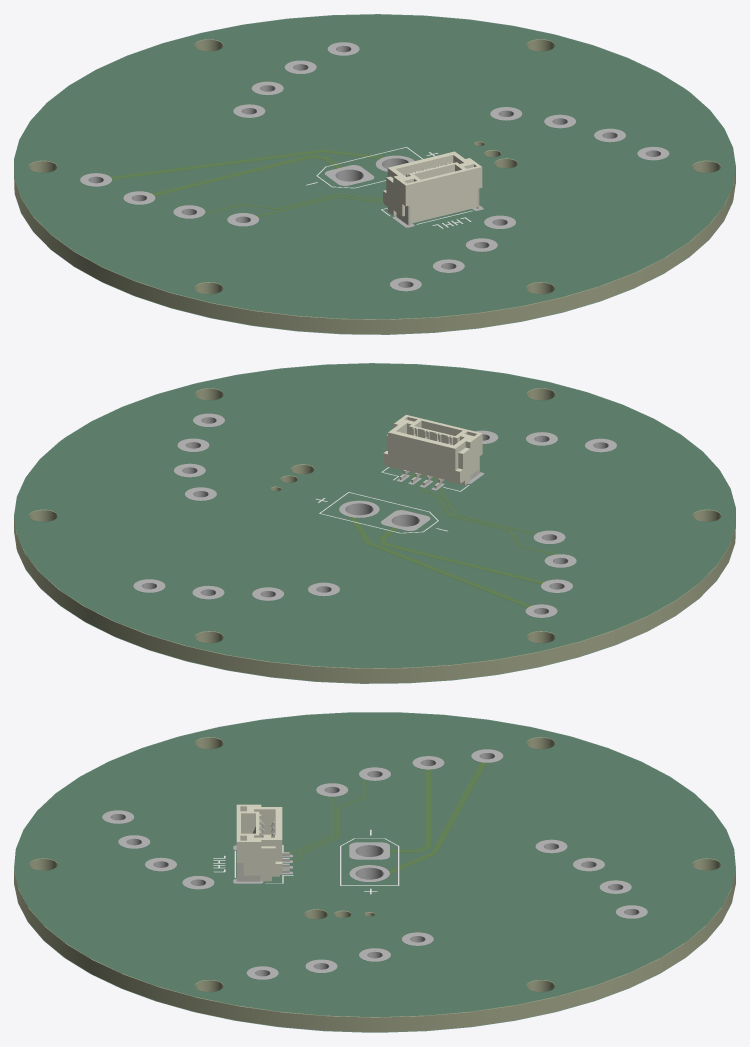
The model's file is pcb-pogo.glb.
3 views of the same model, one above another, from view 1: azimuth 30°, elevation 25°; view 2: azimuth 150°, elevation 25°; view 3: azimuth 270°, elevation 25° (orthographic).
Parts seen in each view (by area): view 1: =>[0:1:1:10], =>[0:1:1:9], =>[0:1:1:5], =>[0:1:1:3], =>[0:1:1:4], =>[0:1:1:8]; view 2: =>[0:1:1:10], =>[0:1:1:9], =>[0:1:1:5], =>[0:1:1:3], =>[0:1:1:4], =>[0:1:1:8]; view 3: =>[0:1:1:10], =>[0:1:1:9], =>[0:1:1:5], =>[0:1:1:3], =>[0:1:1:4], =>[0:1:1:8], =>[0:1:1:7].
Part boxes in pixels (bbox=[...]): =>[0:1:1:10]: bbox=[14, 15, 735, 334]; =>[0:1:1:9]: bbox=[14, 14, 735, 319]; =>[0:1:1:5]: bbox=[80, 42, 669, 291]; =>[0:1:1:3]: bbox=[383, 151, 482, 225]; =>[0:1:1:4]: bbox=[111, 150, 383, 216]; =>[0:1:1:8]: bbox=[14, 177, 735, 334]; =>[0:1:1:10]: bbox=[14, 364, 735, 683]; =>[0:1:1:9]: bbox=[14, 363, 735, 668]; =>[0:1:1:5]: bbox=[133, 413, 616, 617]; =>[0:1:1:3]: bbox=[383, 414, 482, 488]; =>[0:1:1:4]: bbox=[350, 475, 556, 606]; =>[0:1:1:8]: bbox=[14, 526, 735, 683]; =>[0:1:1:10]: bbox=[14, 713, 735, 1032]; =>[0:1:1:9]: bbox=[14, 712, 735, 1016]; =>[0:1:1:5]: bbox=[102, 749, 647, 979]; =>[0:1:1:3]: bbox=[236, 804, 289, 881]; =>[0:1:1:4]: bbox=[290, 763, 485, 873]; =>[0:1:1:8]: bbox=[15, 892, 734, 1032]; =>[0:1:1:7]: bbox=[213, 829, 399, 894].
Bounding box in the file's own units: 0.0674 × 0.00587 × 0.0675.
